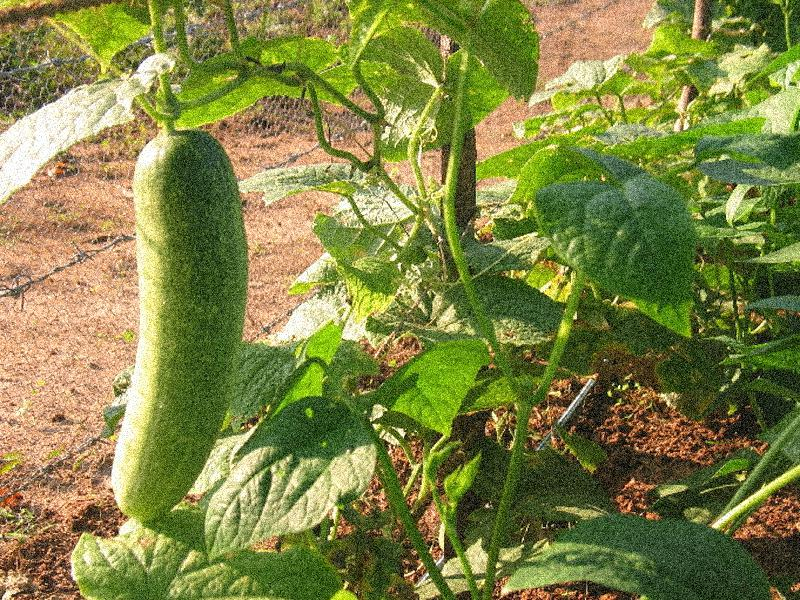Cucumber: (112, 132, 247, 519)
